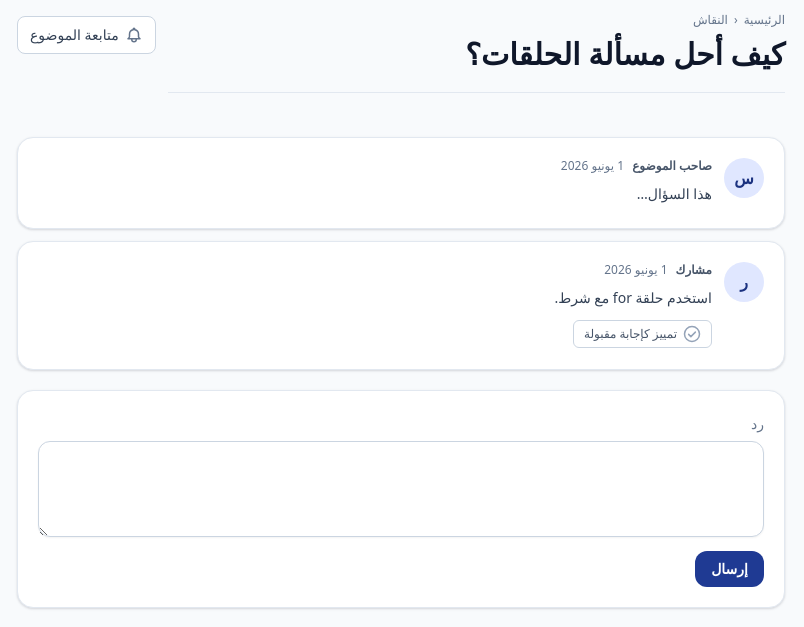
ThreadPage — زرّ المتابعة (subscribe) › الزرّ معطَّل أثناء الطلب المعلَّق (منع التكرار)
Click the button "متابعة الموضوع": click(86, 35) [17, 16, 156, 54]
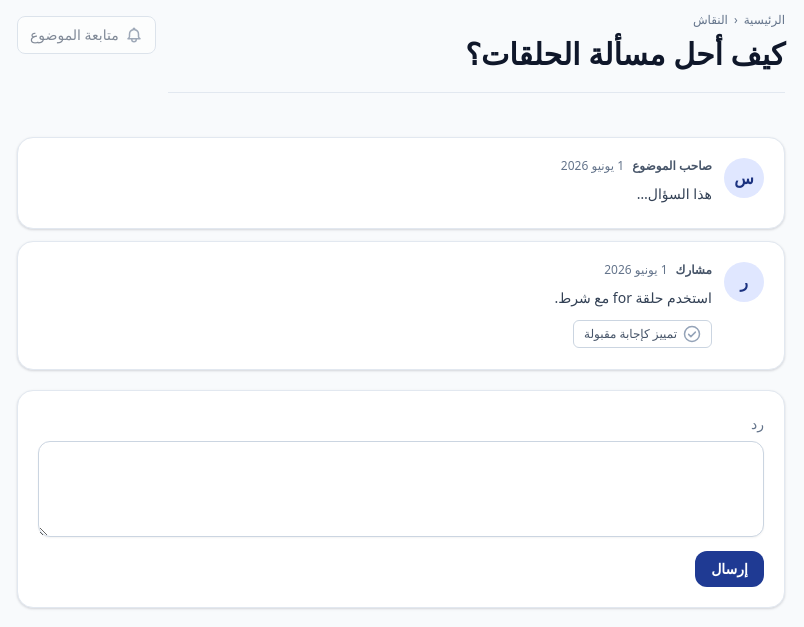
Now the button "متابعة الموضوع" is disabled, box [17, 16, 156, 54]
